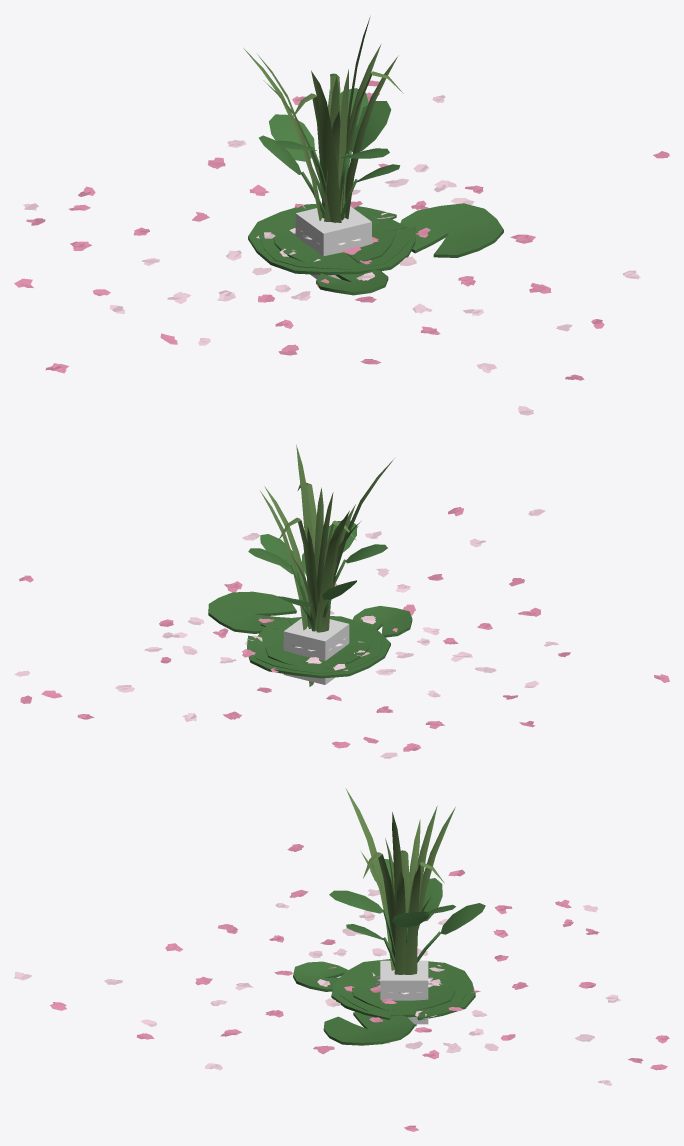
Rendered from BlossomSanctuary_Water.fbx.
The picture shows the model from 3 angles, top to bottom: view 1: azimuth 30°, elevation 25°; view 2: azimuth 150°, elevation 25°; view 3: azimuth 270°, elevation 25°; orthographic projection. The views are drawn at different scales.
Parts seen in each view (by area): view 1: BS_LilyPadCluster__Lily, BS_Reeds__Reed, BS_WaterPlantain__Lily, BS_PetalDrift__Blossom, BS_PetalDrift__BlossomPale, BS_Anchor, BS_LilyPadA__Lily, BS_LilyPadB__Lily; view 2: BS_Reeds__Reed, BS_LilyPadCluster__Lily, BS_PetalDrift__BlossomPale, BS_PetalDrift__Blossom, BS_WaterPlantain__Lily, BS_Anchor, BS_LilyPadA__Lily, BS_LilyPadB__Lily; view 3: BS_Reeds__Reed, BS_LilyPadCluster__Lily, BS_WaterPlantain__Lily, BS_PetalDrift__Blossom, BS_PetalDrift__BlossomPale, BS_Anchor, BS_LilyPadA__Lily, BS_LilyPadB__Lily.
Part boxes in pixels (x1,y1,x2,y2): BS_LilyPadCluster__Lily: (259, 203, 503, 295); BS_Reeds__Reed: (243, 17, 403, 222); BS_WaterPlantain__Lily: (259, 88, 400, 220); BS_PetalDrift__Blossom: (14, 80, 669, 380); BS_PetalDrift__BlossomPale: (23, 95, 640, 415); BS_Anchor: (295, 206, 371, 279); BS_LilyPadA__Lily: (248, 204, 415, 275); BS_LilyPadB__Lily: (272, 217, 395, 263); BS_Reeds__Reed: (260, 445, 394, 686); BS_LilyPadCluster__Lily: (208, 591, 412, 673); BS_PetalDrift__BlossomPale: (14, 509, 559, 758); BS_PetalDrift__Blossom: (19, 507, 669, 751); BS_WaterPlantain__Lily: (248, 520, 387, 631); BS_Anchor: (283, 618, 349, 684); BS_LilyPadA__Lily: (247, 616, 390, 678); BS_LilyPadB__Lily: (265, 627, 370, 668); BS_Reeds__Reed: (345, 788, 455, 1026); BS_LilyPadCluster__Lily: (293, 961, 466, 1045); BS_WaterPlantain__Lily: (329, 859, 485, 967); BS_PetalDrift__Blossom: (50, 844, 669, 1131); BS_PetalDrift__BlossomPale: (14, 889, 620, 1085); BS_Anchor: (380, 960, 428, 1024); BS_LilyPadA__Lily: (331, 959, 475, 1020); BS_LilyPadB__Lily: (352, 968, 455, 1010).
Bounding box in the file's own units: 14.24 × 5.24 × 13.71.
